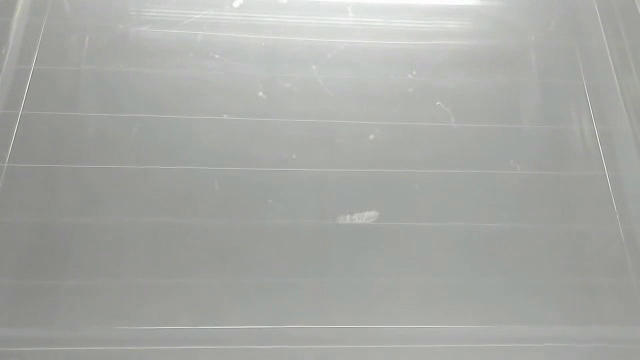alpha: (333, 209, 387, 227), (228, 1, 248, 9)
